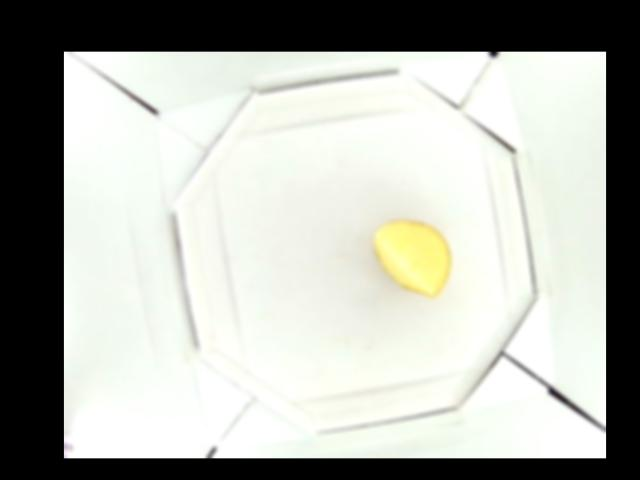Potato: (375, 218, 451, 297)
